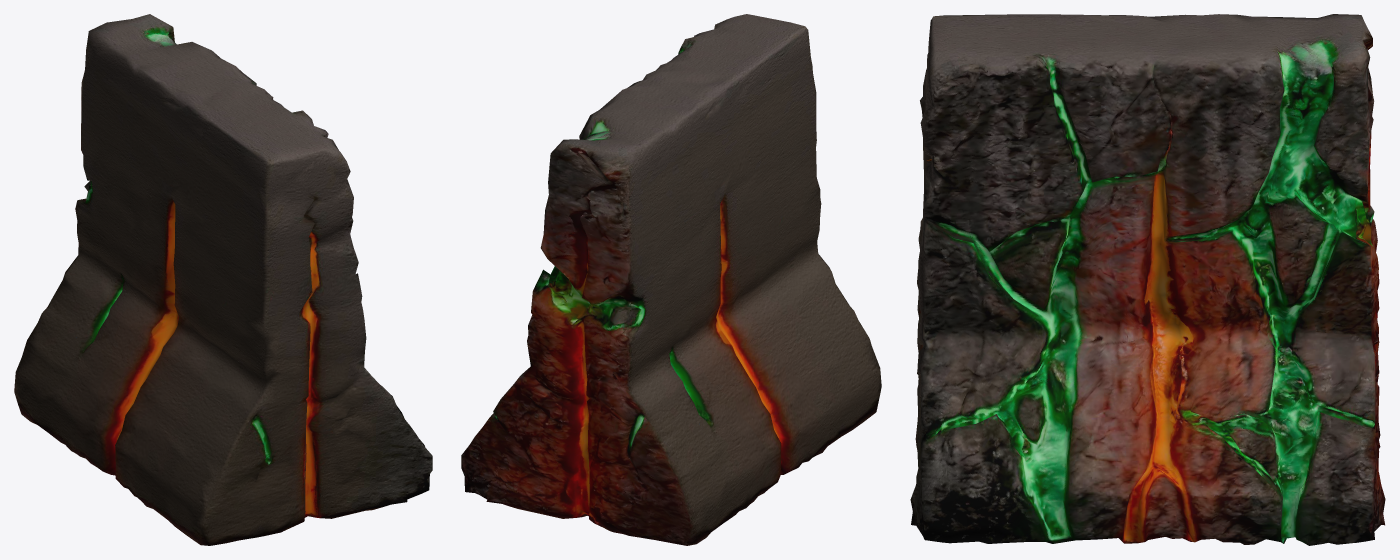
File: Green road-Bareear.fbx
3 views of the same model, side by side, from view 1: azimuth 30°, elevation 25°; view 2: azimuth 150°, elevation 25°; view 3: azimuth 270°, elevation 25° (orthographic). The views are drawn at different scales.
Visible parts, largest first — view 1: tripo_node_32b29b15; view 2: tripo_node_32b29b15; view 3: tripo_node_32b29b15.
Boxes of the visible parts, x1,y1,x2,y2 form: tripo_node_32b29b15: (14, 14, 432, 545); tripo_node_32b29b15: (461, 14, 881, 545); tripo_node_32b29b15: (910, 14, 1385, 545).
Bounding box in the file's own units: 0.6512 × 1 × 0.964.
Materials: 1 (1 with a texture image).
